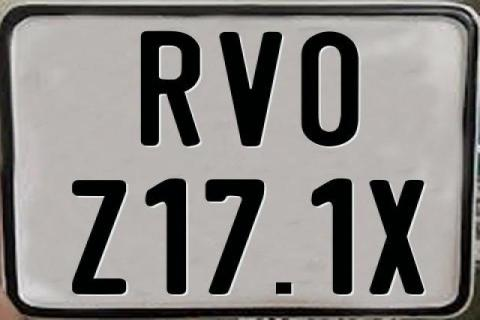0: (202, 177, 266, 292), (299, 31, 358, 149), (142, 176, 185, 296), (311, 177, 352, 293)
R: (141, 31, 201, 150)
V: (219, 30, 284, 146)
X: (368, 178, 429, 294)
Z: (71, 178, 126, 294)
